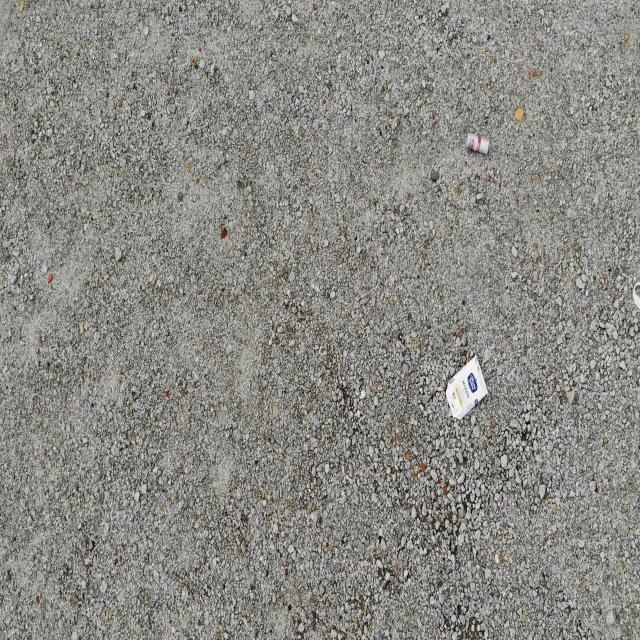rubbish: (445, 352, 488, 421), (466, 131, 489, 155)
